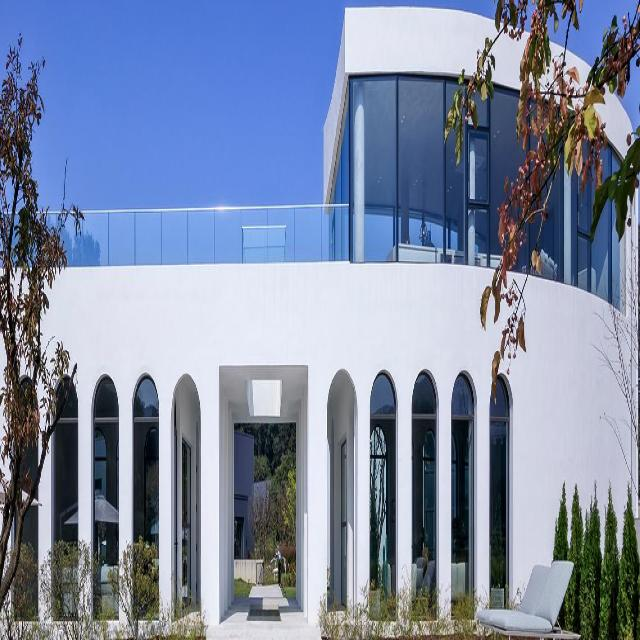Railing: (2, 212, 349, 260)
plant: (482, 0, 640, 319), (0, 28, 87, 509), (551, 478, 640, 639), (448, 3, 528, 163), (591, 54, 640, 245)
wall: (0, 5, 640, 621)
windows: (328, 76, 621, 314), (91, 376, 118, 623), (369, 380, 396, 622), (52, 371, 78, 620), (135, 379, 160, 614), (451, 375, 474, 622), (413, 377, 435, 616), (491, 391, 512, 608)
